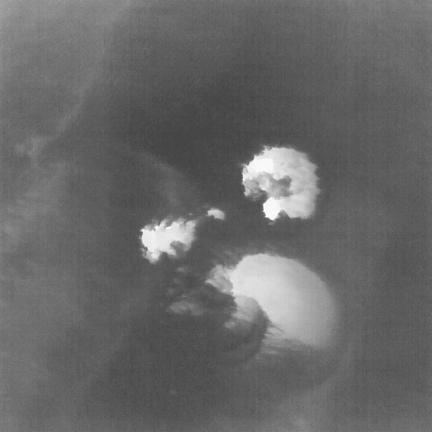flukeprints: (228, 253, 338, 348), (242, 146, 319, 220), (141, 218, 198, 263)
